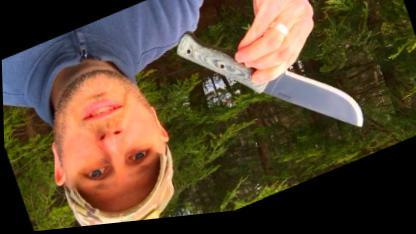knife: (238, 15, 376, 173)
